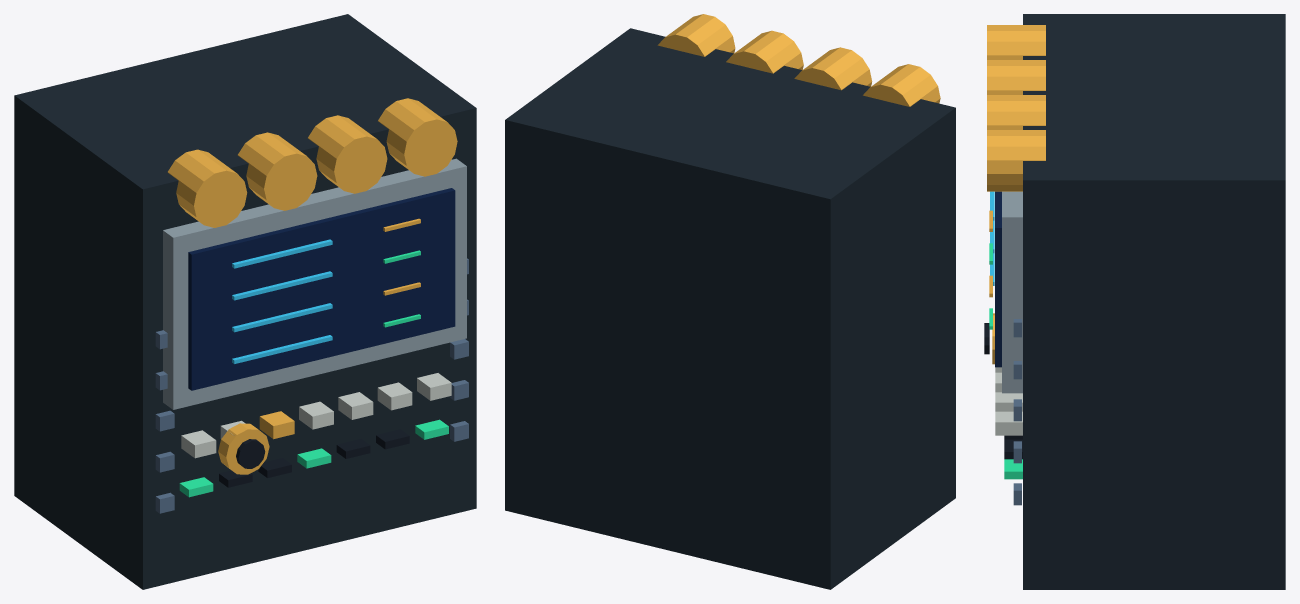
The model's file is 35_L84_GyroscopeCalibrationStation.fbx.
3 renders of one model, left to right at view 1: azimuth 30°, elevation 25°; view 2: azimuth 150°, elevation 25°; view 3: azimuth 270°, elevation 25°, orthographic. The views are drawn at different scales.
Parts seen in each view (by area): view 1: L84_GyroscopeCalibrationStation, L84_GyroscopeCalibrationStation_Part_0010, L84_GyroscopeCalibrationStation_Part_0011; view 2: L84_GyroscopeCalibrationStation; view 3: L84_GyroscopeCalibrationStation.
Boxes of the visible parts, x1,y1,x2,y2 form: L84_GyroscopeCalibrationStation: [14, 14, 476, 589]; L84_GyroscopeCalibrationStation_Part_0010: [218, 423, 269, 474]; L84_GyroscopeCalibrationStation_Part_0011: [236, 439, 265, 468]; L84_GyroscopeCalibrationStation: [505, 14, 955, 589]; L84_GyroscopeCalibrationStation: [987, 14, 1285, 589].
Bounding box in the file's own units: 99.96 × 119 × 76.52.
